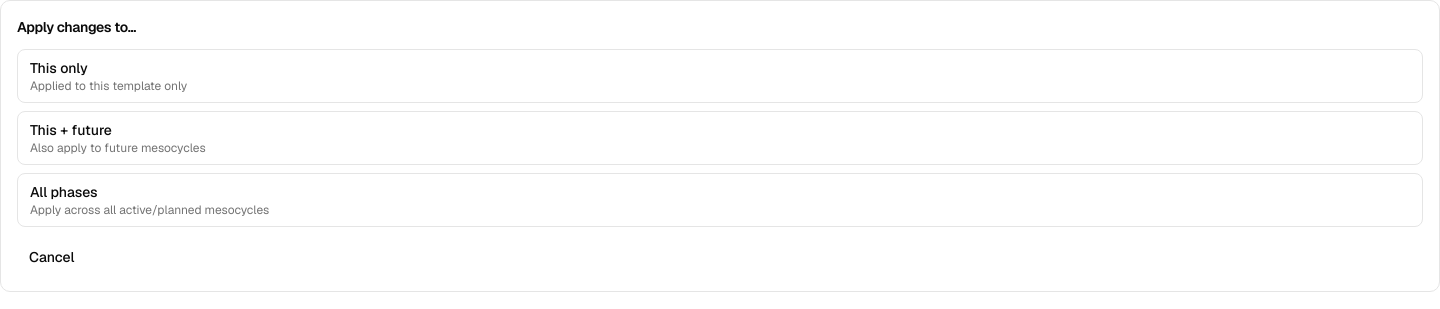
Test: SlotCascadeScopeSelector — characterization › confirm step display › shows singular skip warning for 1 skipped template
Click the text "All phases" at (64, 192), box [30,182,98,202]
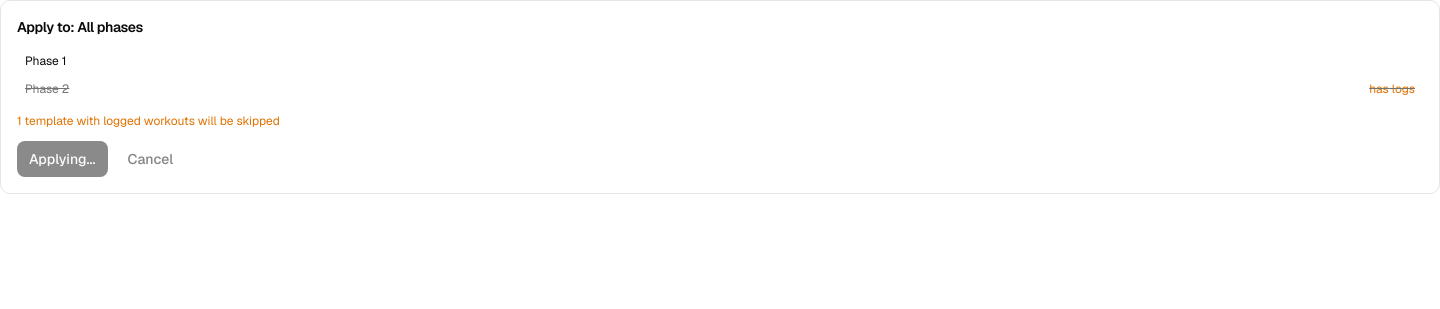
Now the text "1 template with logged workouts will be skipped" is shown, box [17,113,280,129]
